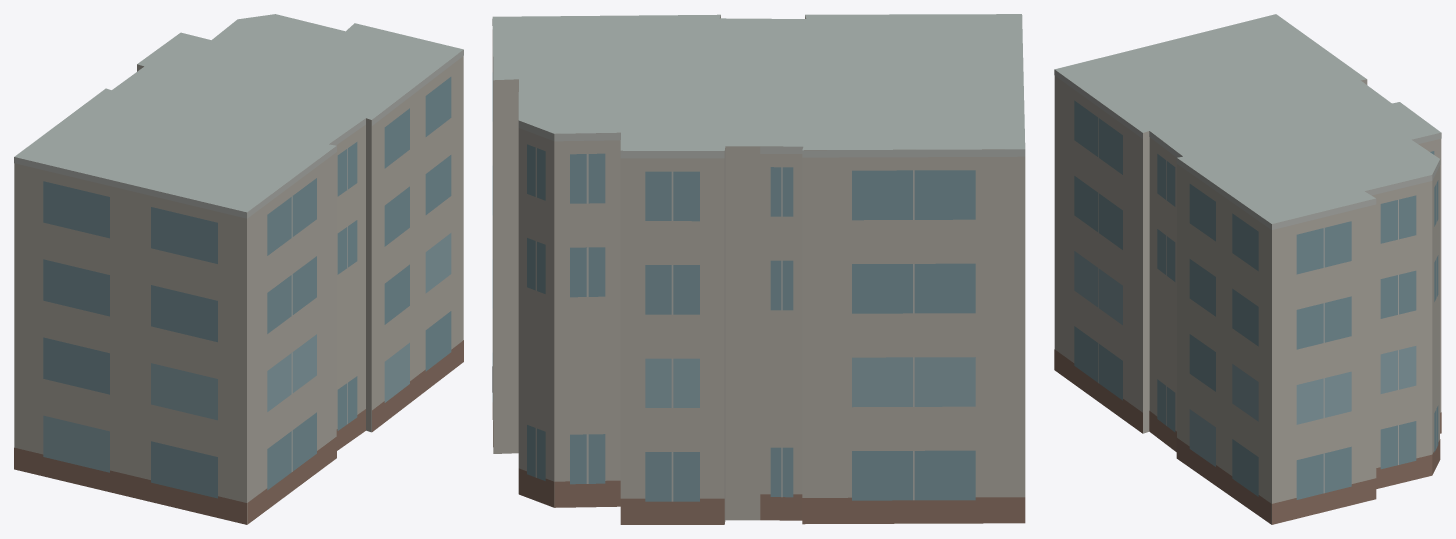
Rendered from survey-upis-33010289.glb.
3 views of the same model, side by side, from view 1: azimuth 30°, elevation 25°; view 2: azimuth 150°, elevation 25°; view 3: azimuth 270°, elevation 25° (orthographic). The views are drawn at different scales.
Visible parts, largest first — view 1: survey-upis-33010289.tmp; view 2: survey-upis-33010289.tmp; view 3: survey-upis-33010289.tmp.
Boxes of the visible parts, x1=… form: survey-upis-33010289.tmp: x1=14, y1=14, x2=463, y2=524; survey-upis-33010289.tmp: x1=492, y1=14, x2=1025, y2=524; survey-upis-33010289.tmp: x1=1054, y1=14, x2=1441, y2=524.
Bounding box in the file's own units: 18.23 × 12.16 × 14.19.
